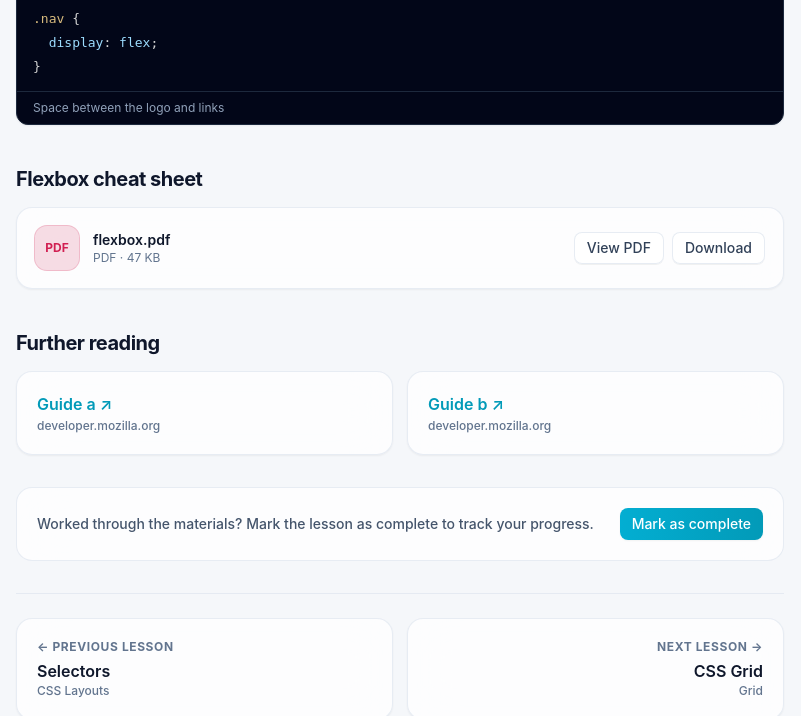
it: LessonReaderPage › lets an enrolled student mark the lesson complete and report the course progress
(page scrolled)
Step 1. Click the button "Mark as complete" → (691, 524), box 620,508 -> 763,540
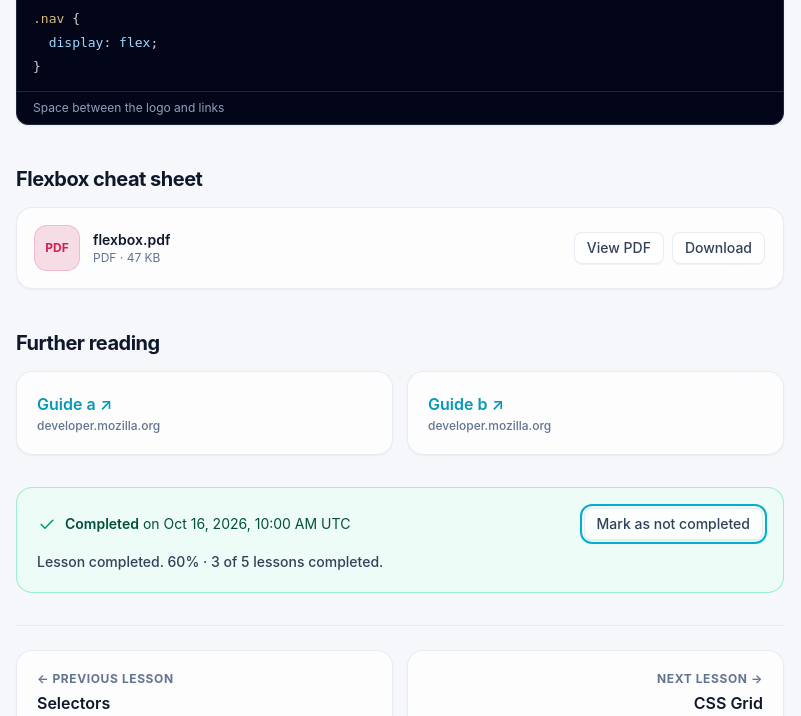
Check: the button "Mark as not completed" is enabled, box 584,508 -> 763,540
Check: the text "Lesson completed. 60% · 3 of 5 lessons completed." is shown once, box 37,553 -> 383,570
Check: the text "Completed" is shown, box 65,515 -> 139,532
